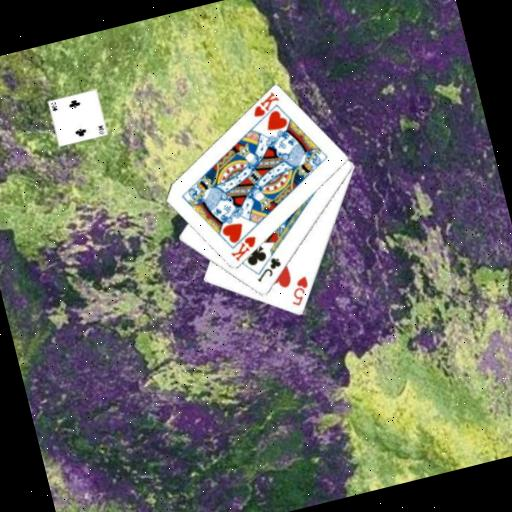5H: (283, 273, 315, 310)
JC: (250, 253, 287, 285)
KH: (245, 88, 284, 121), (225, 232, 263, 265)
